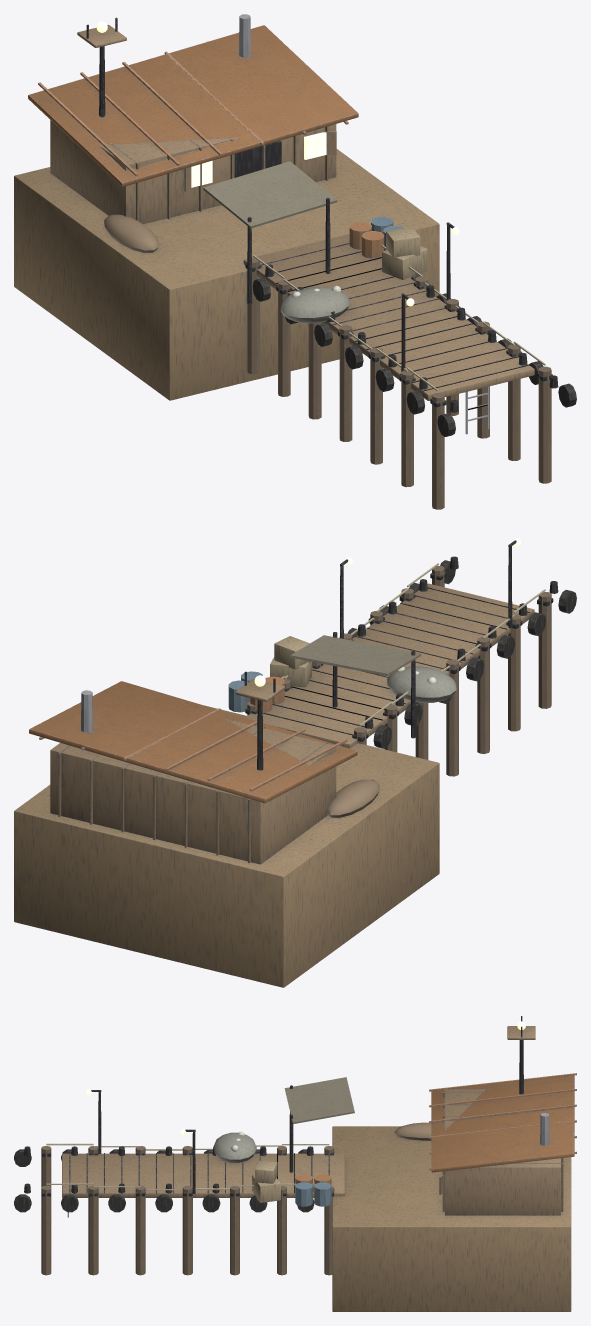
The model's file is shadow_dock.glb.
The picture shows the model from 3 angles, top to bottom: view 1: azimuth 30°, elevation 25°; view 2: azimuth 150°, elevation 25°; view 3: azimuth 270°, elevation 25°; orthographic projection. The views are drawn at different scales.
Parts seen in each view (by area): view 1: Hull; view 2: Hull; view 3: Hull.
Part boxes in pixels (x1=…): Hull: x1=14, y1=14, x2=576, y2=509; Hull: x1=14, y1=538, x2=576, y2=987; Hull: x1=14, y1=1016, x2=576, y2=1311.
Bounding box in the file's own units: 7.6 × 7.4 × 17.91.
Materials: 18 (18 with a texture image).
